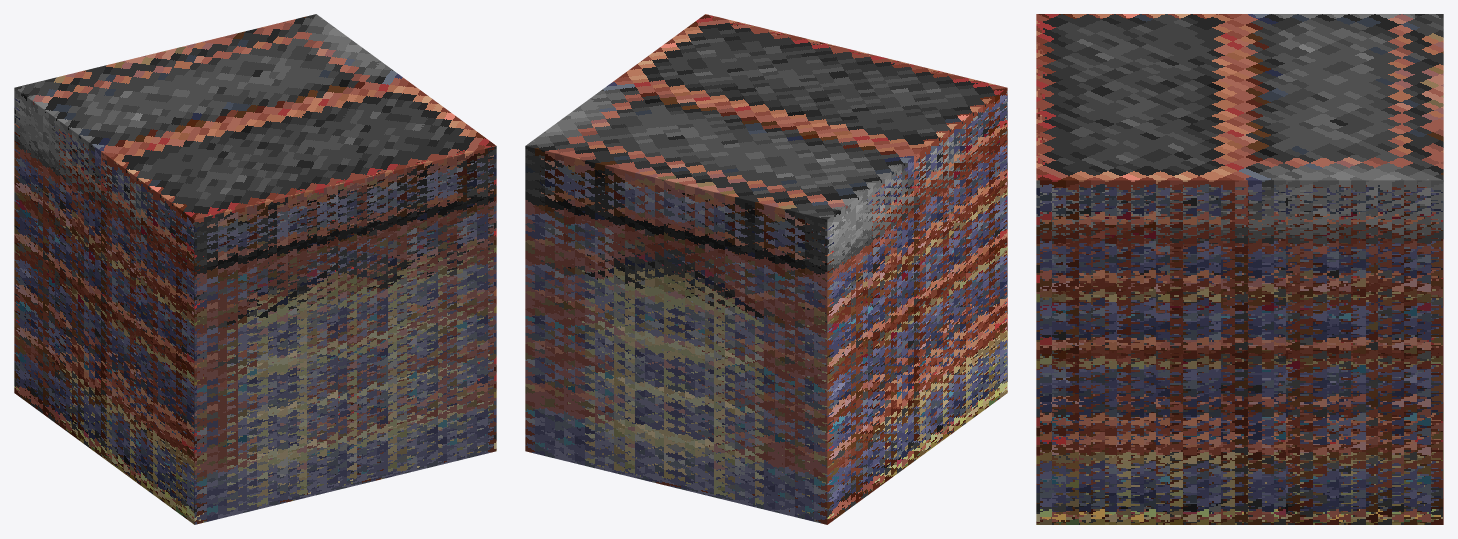
Rendered from dum_0e_obchody.glb.
3 views of the same model, side by side, from view 1: azimuth 30°, elevation 25°; view 2: azimuth 150°, elevation 25°; view 3: azimuth 270°, elevation 25° (orthographic). The views are drawn at different scales.
Size of the model in its own units: 13.99 by 13.5 by 14.46.
Materials: 1 (1 with a texture image).
